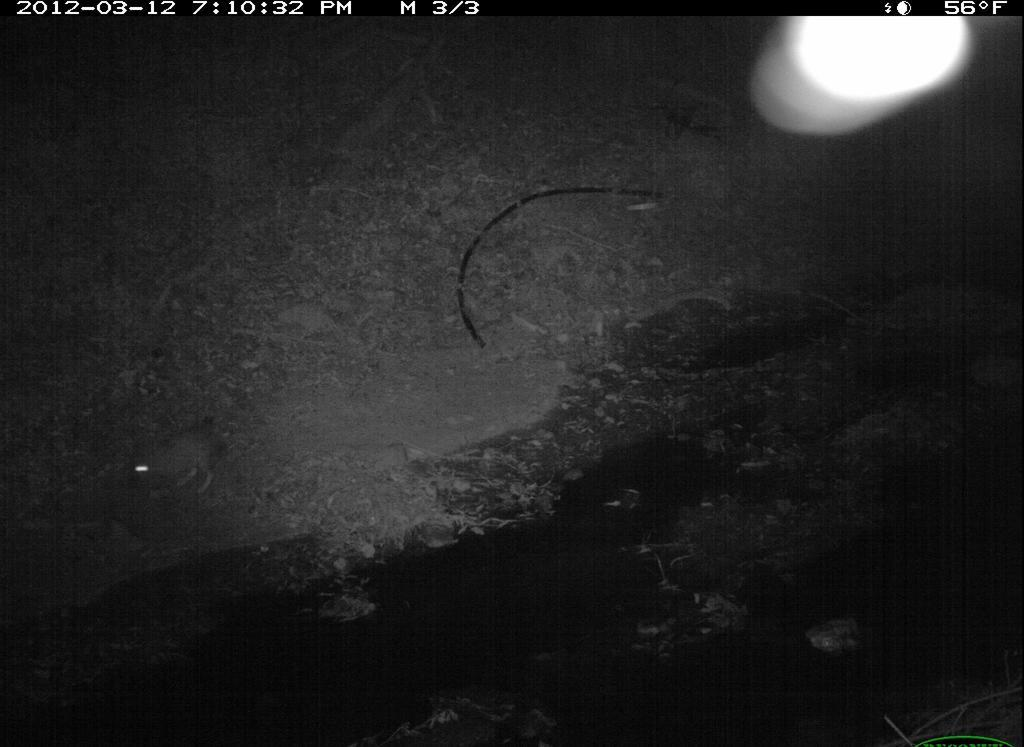rabbit: (95, 393, 257, 507)
